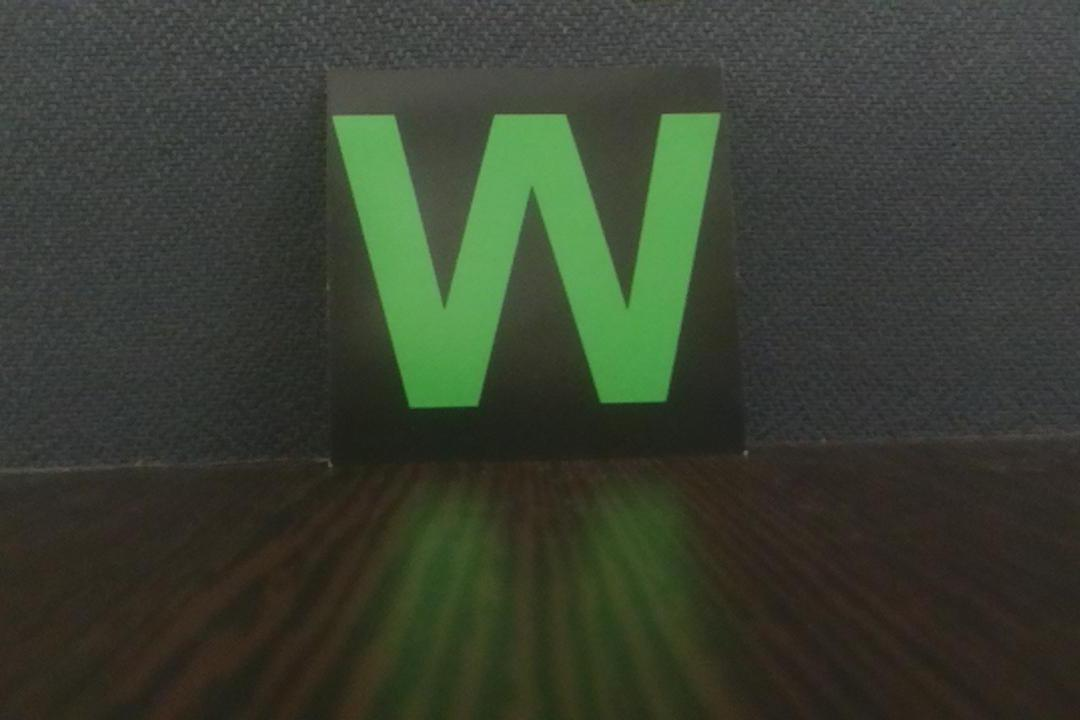alphabet_w: (323, 61, 747, 452)
